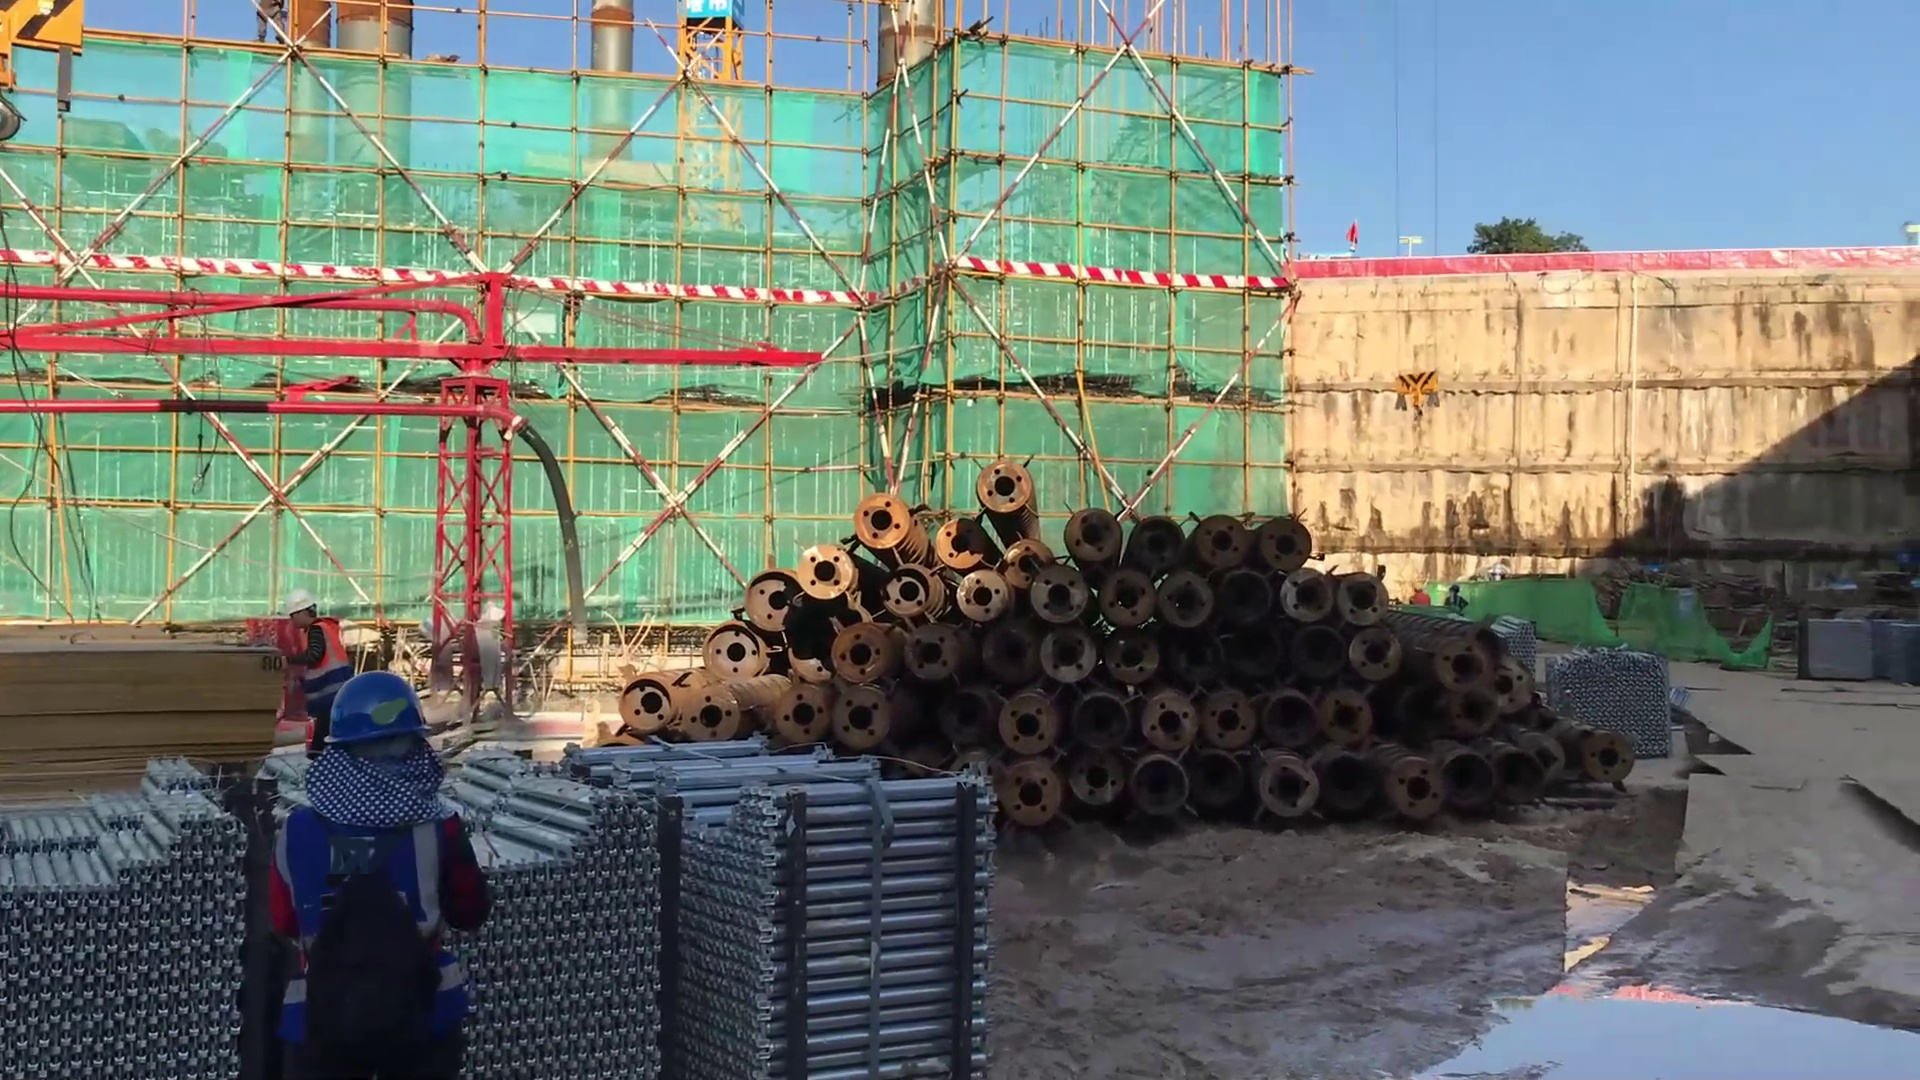board: (1, 638, 284, 801)
fence: (1275, 226, 1920, 282)
helmet: (323, 665, 441, 743), (277, 579, 329, 615)
hook: (1, 1, 109, 162)
person: (257, 668, 484, 1078), (281, 583, 343, 757)
scaffold: (480, 743, 1002, 1080), (1, 757, 254, 1080)
vest: (277, 802, 471, 1047), (294, 622, 359, 714)
